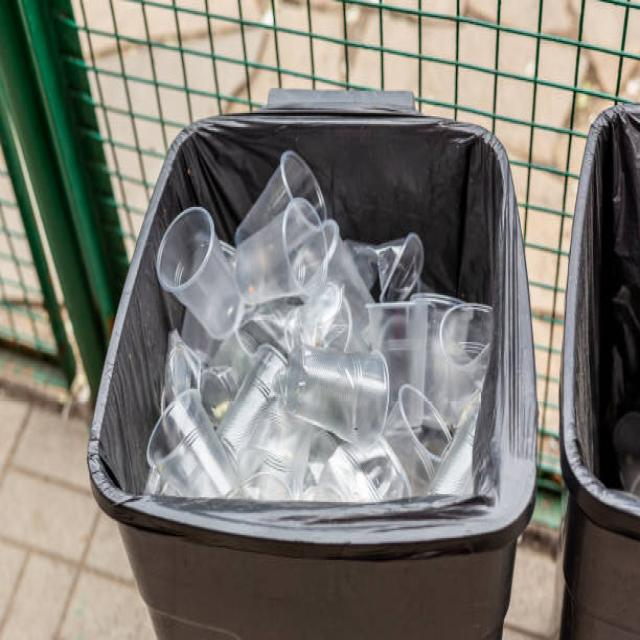plastic: (183, 183, 444, 464)
